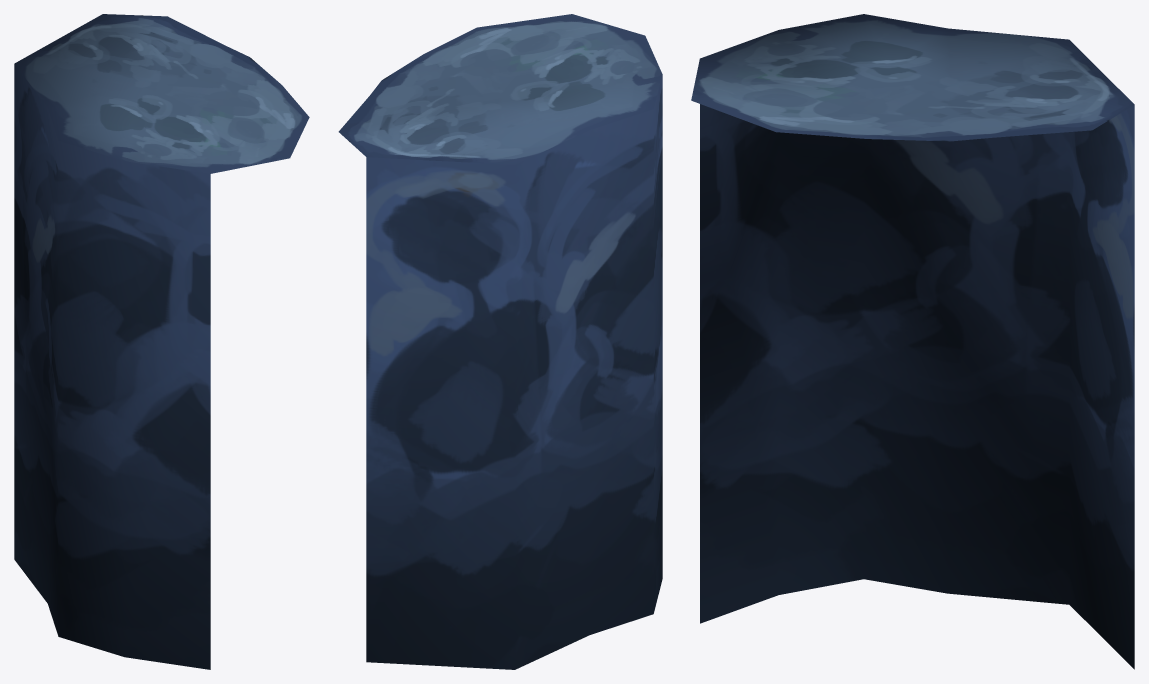
The model's file is SM_tterrain_poteau_2.FBX.
3 renders of one model, left to right at view 1: azimuth 30°, elevation 25°; view 2: azimuth 150°, elevation 25°; view 3: azimuth 270°, elevation 25°, orthographic. The views are drawn at different scales.
Visible parts, largest first — view 1: Plane002; view 2: Plane002; view 3: Plane002.
Part boxes in pixels (left/top/right/bottom): Plane002: left=14, top=14, right=309, bottom=669; Plane002: left=338, top=14, right=662, bottom=669; Plane002: left=691, top=14, right=1134, bottom=669.
Bounding box in the file's own units: 16.82 × 34.77 × 24.73.
